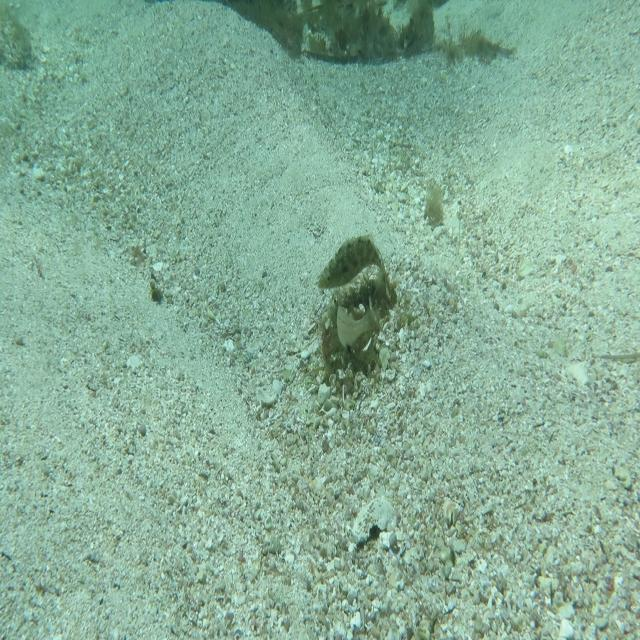SPA: (315, 227, 393, 310)
female: (331, 278, 387, 358)
nest: (314, 269, 405, 391)
vegetation: (238, 0, 508, 65), (422, 173, 447, 234)
